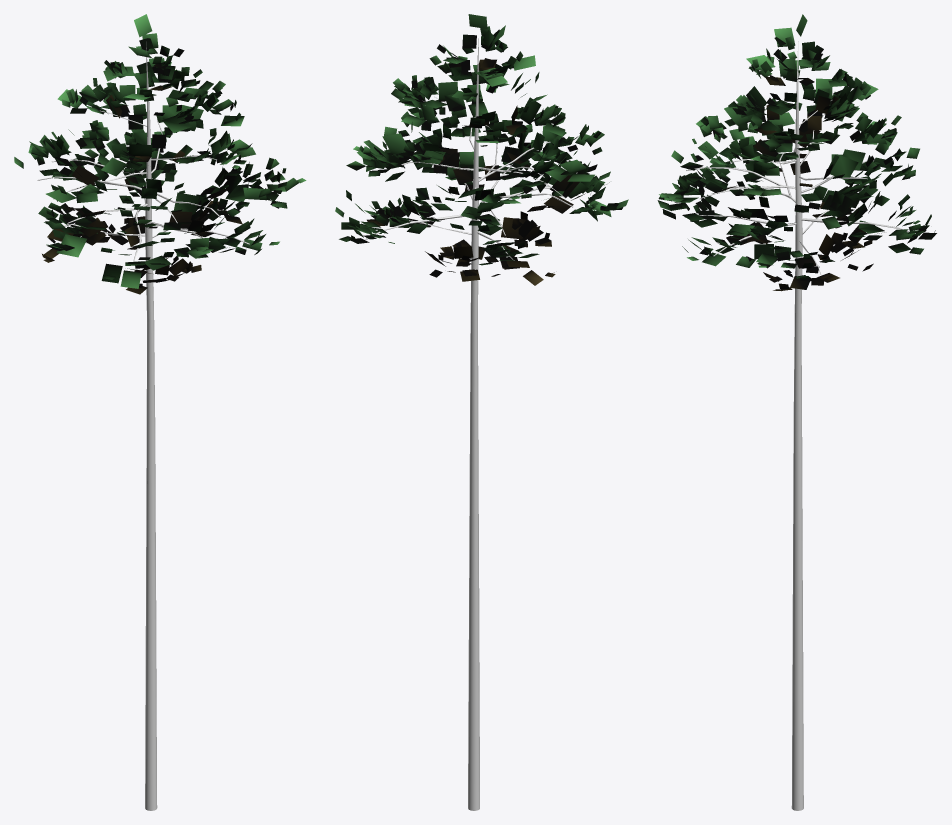
Rendered from PW3DVT_HeroPine_2_lod3.fbx.
The picture shows the model from 3 angles, left to right: view 1: azimuth 30°, elevation 25°; view 2: azimuth 150°, elevation 25°; view 3: azimuth 270°, elevation 25°; orthographic projection.
Visible parts, largest first — view 1: leaves.005, tree.004, tree.005; view 2: leaves.005, tree.004, tree.005; view 3: leaves.005, tree.004, tree.005.
Boxes of the visible parts, x1,y1,x2,y2 form: leaves.005: (14,14,306,294); tree.004: (145,41,157,810); tree.005: (37,108,249,261); leaves.005: (335,14,628,285); tree.004: (468,38,479,810); tree.005: (365,115,579,260); leaves.005: (657,14,936,291); tree.004: (791,41,803,810); tree.005: (684,100,920,275).
Size of the model in its own units: 7.43 by 21.24 by 6.84.
